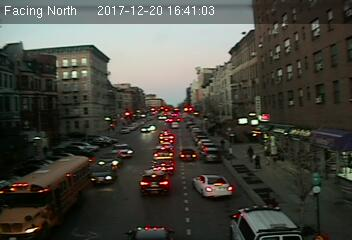car: (192, 171, 232, 199), (139, 170, 172, 195), (88, 161, 119, 185), (111, 142, 135, 158), (150, 158, 175, 172), (203, 148, 220, 162), (178, 149, 197, 161)
police: (227, 201, 313, 240)
truck: (1, 155, 93, 240)
